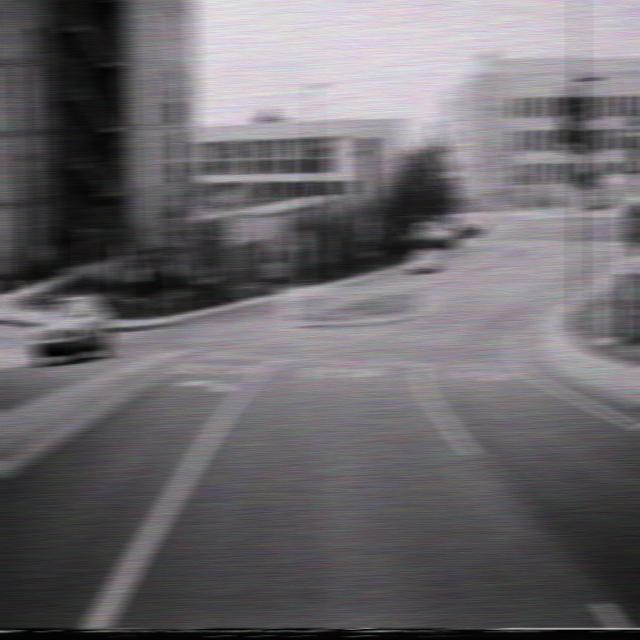stop: (163, 202, 190, 246)
